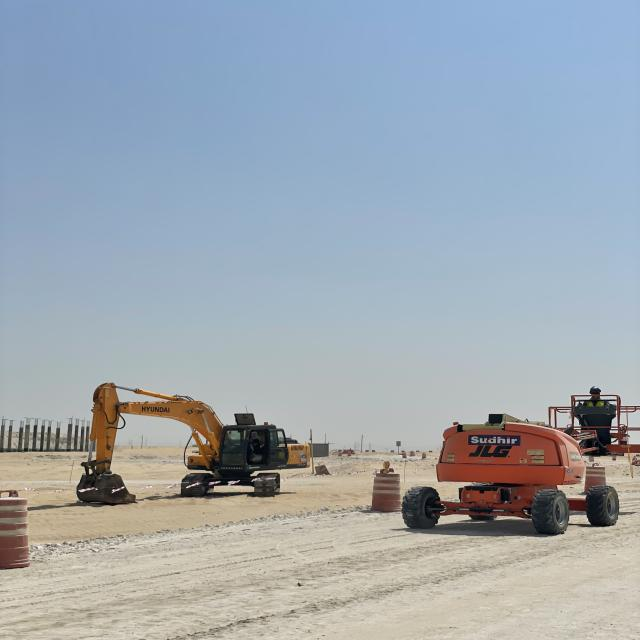excavator: (74, 376, 311, 520)
